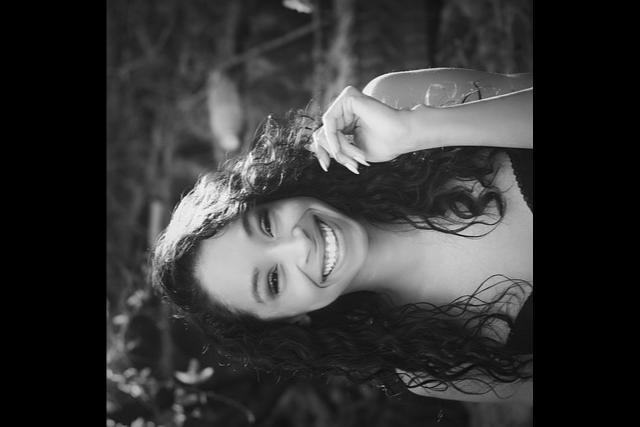Non_Gorille: (135, 8, 530, 417)
